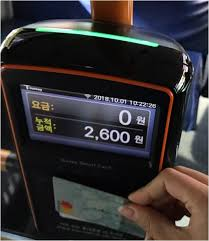terminal: (2, 24, 196, 241)
